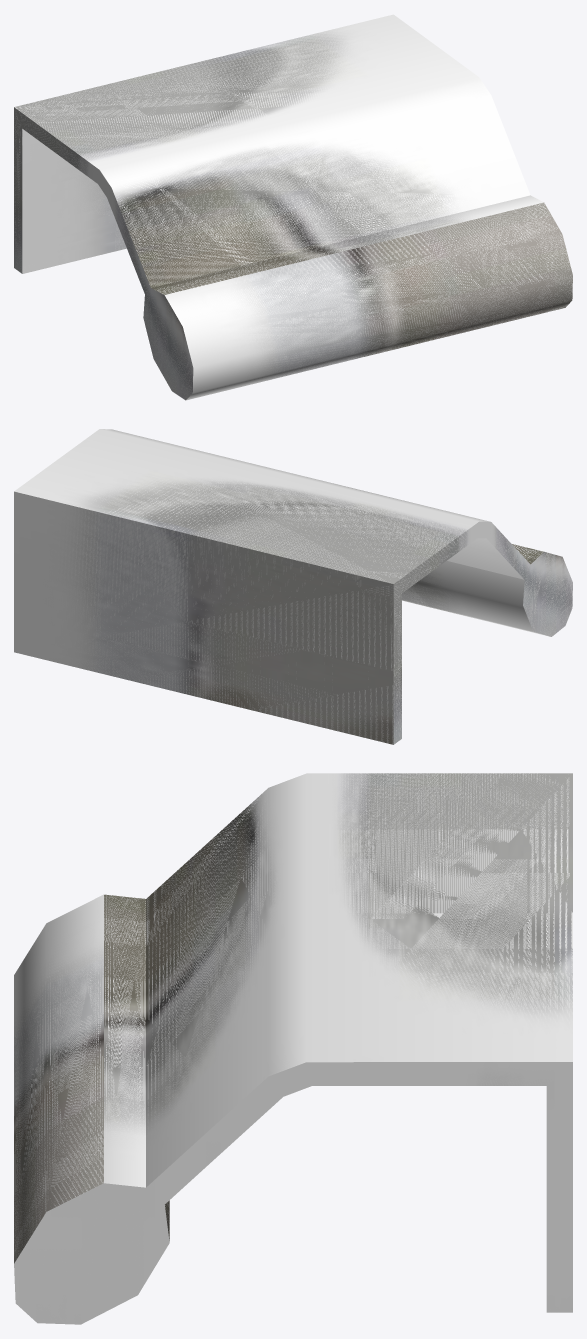
The model's file is original-50.obj.
3 renders of one model, top to bottom at view 1: azimuth 30°, elevation 25°; view 2: azimuth 150°, elevation 25°; view 3: azimuth 270°, elevation 25°, orthographic. The views are drawn at different scales.
Visible parts, largest first — view 1: _3043_1/_3043/mesh35/mesh35-geometry#mesh35-geometry; view 2: _3043_1/_3043/mesh35/mesh35-geometry#mesh35-geometry; view 3: _3043_1/_3043/mesh35/mesh35-geometry#mesh35-geometry.
Boxes of the visible parts, x1=… form: _3043_1/_3043/mesh35/mesh35-geometry#mesh35-geometry: x1=14, y1=14, x2=572, y2=400; _3043_1/_3043/mesh35/mesh35-geometry#mesh35-geometry: x1=14, y1=429, x2=572, y2=744; _3043_1/_3043/mesh35/mesh35-geometry#mesh35-geometry: x1=14, y1=773, x2=572, y2=1324.
Bounding box in the file's own units: 0.0898 × 0.0381 × 0.0735.
